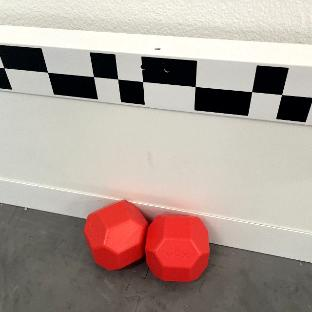V5_RED: (145, 214, 210, 282), (84, 200, 146, 269)
